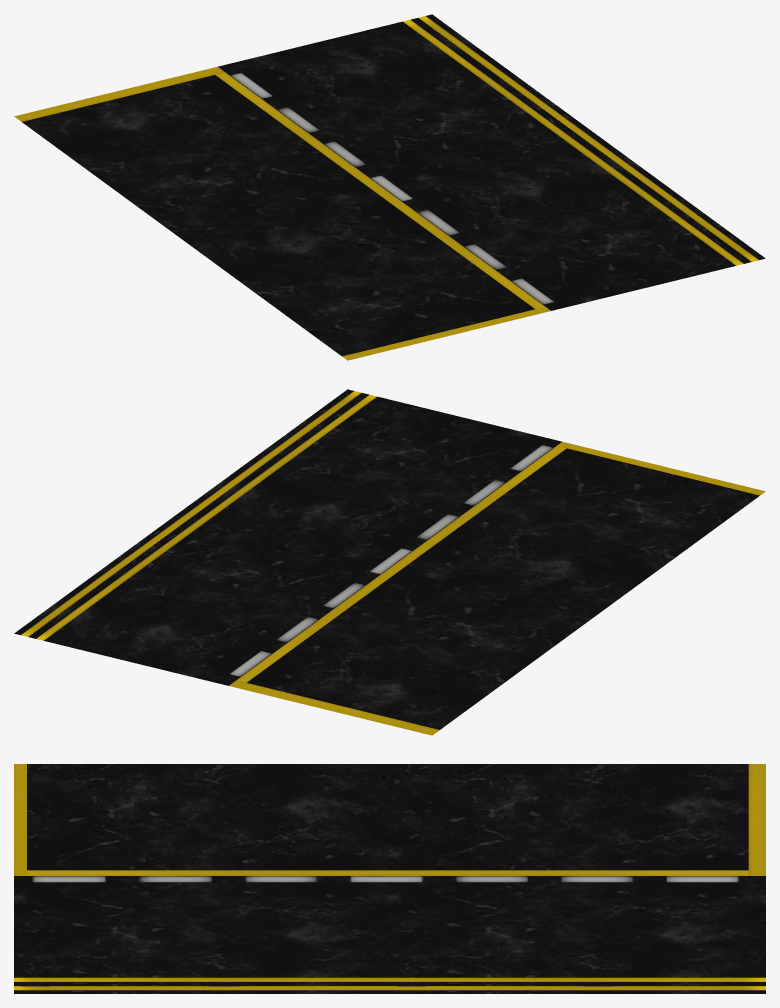
File: RoadLaneWithBusStop.fbx
3 renders of one model, top to bottom at view 1: azimuth 30°, elevation 25°; view 2: azimuth 150°, elevation 25°; view 3: azimuth 270°, elevation 25°, orthographic. The views are drawn at different scales.
Visible parts, largest first — view 1: RoadLaneLeft, RoadLaneRight, DottedLines; view 2: RoadLaneLeft, RoadLaneRight, DottedLines; view 3: RoadLaneLeft, RoadLaneRight, DottedLines.
Part boxes in pixels (bbox=[...]): RoadLaneLeft: bbox=[14, 66, 550, 360]; RoadLaneRight: bbox=[230, 14, 765, 307]; DottedLines: bbox=[218, 63, 562, 310]; RoadLaneLeft: bbox=[229, 441, 765, 735]; RoadLaneRight: bbox=[14, 389, 549, 682]; DottedLines: bbox=[217, 438, 561, 685]; RoadLaneLeft: bbox=[14, 764, 765, 875]; RoadLaneRight: bbox=[14, 882, 765, 993]; DottedLines: bbox=[14, 876, 765, 882].
Bounding box in the file's own units: 729 × 0 × 1008.
1 material, 1 textured.
